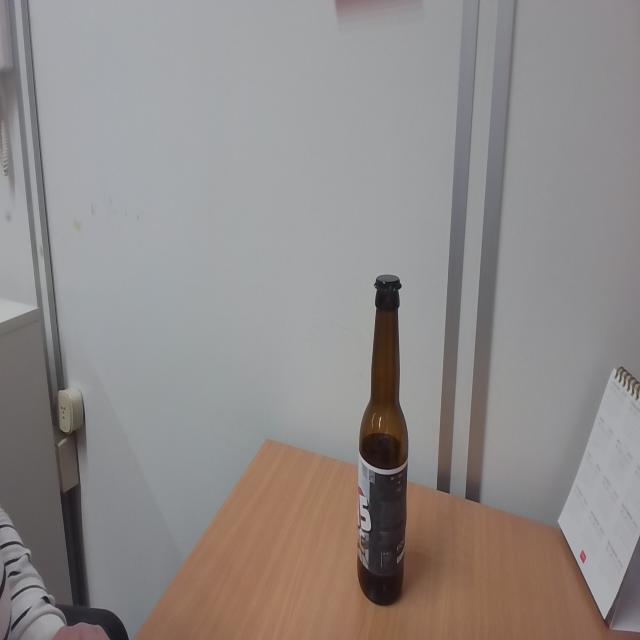Bottle: (356, 274, 410, 608)
Cap: (369, 271, 405, 294)
Label: (358, 452, 408, 575)
